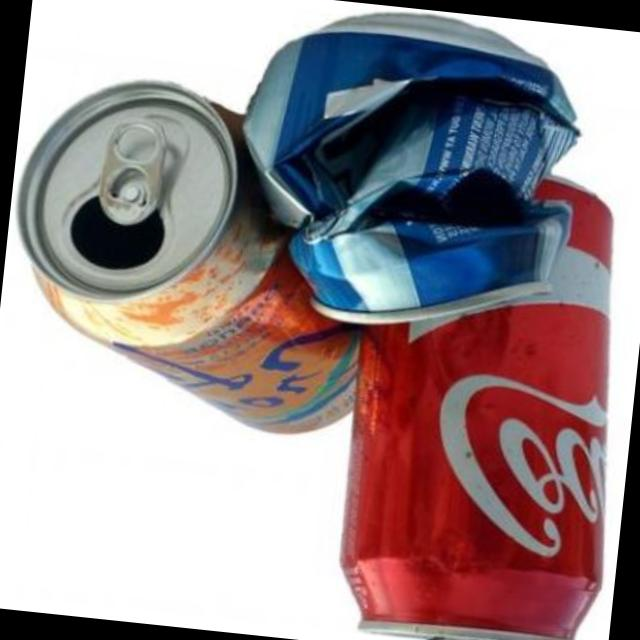metal: (340, 180, 611, 640), (15, 87, 356, 435), (245, 16, 573, 323)
